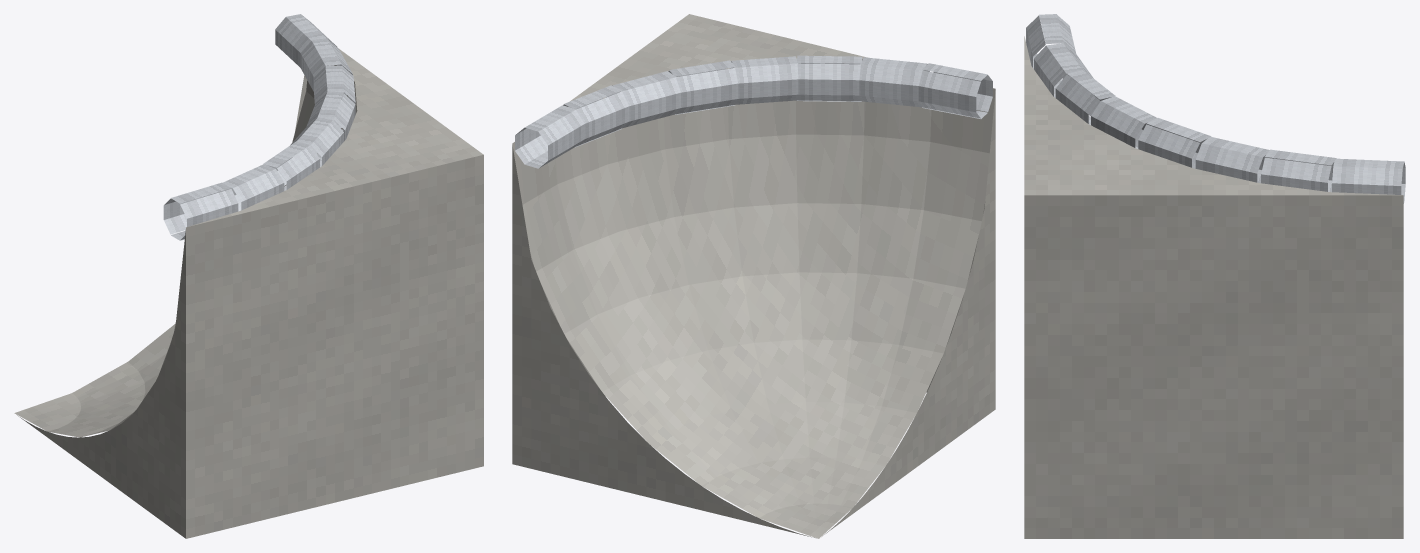
Rendered from bowl_corner.obj.
3 renders of one model, left to right at view 1: azimuth 30°, elevation 25°; view 2: azimuth 150°, elevation 25°; view 3: azimuth 270°, elevation 25°, orthographic. The views are drawn at different scales.
Parts seen in each view (by area): view 1: bowl_corner; view 2: bowl_corner; view 3: bowl_corner.
Part boxes in pixels (x1,y1,x2,y2): bowl_corner: (14, 14, 483, 538); bowl_corner: (512, 14, 995, 538); bowl_corner: (1024, 14, 1405, 538).
Bounding box in the file's own units: 1.01 × 1.06 × 1.01.
